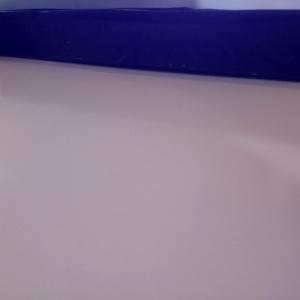zone: (1, 8, 300, 82)
